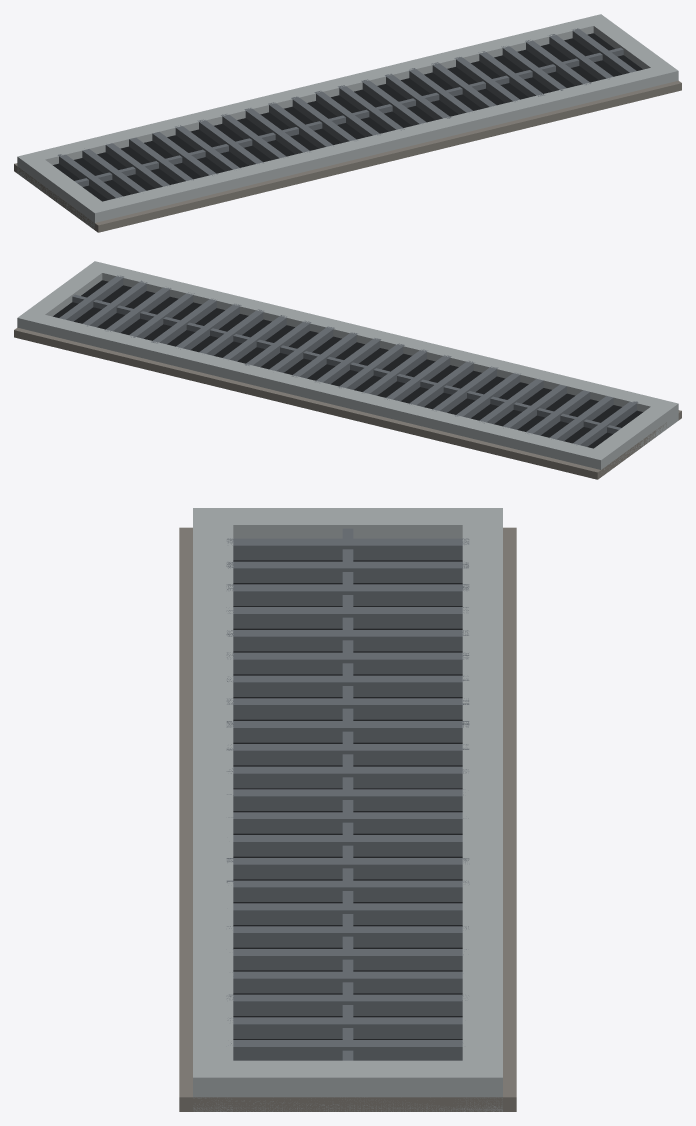
File: SC_Util_Drain_Grate_Linear.gltf
The picture shows the model from 3 angles, top to bottom: view 1: azimuth 30°, elevation 25°; view 2: azimuth 150°, elevation 25°; view 3: azimuth 270°, elevation 25°; orthographic projection. The views are drawn at different scales.
Parts seen in each view (by area): view 1: SC_Util_Drain_Grate_Linear; view 2: SC_Util_Drain_Grate_Linear; view 3: SC_Util_Drain_Grate_Linear.
Boxes of the visible parts, box(x1,y1,x2,y2) form: SC_Util_Drain_Grate_Linear: box(14, 14, 681, 232); SC_Util_Drain_Grate_Linear: box(14, 261, 681, 479); SC_Util_Drain_Grate_Linear: box(179, 508, 516, 1111).
Size of the model in its own units: 1 by 0.028 by 0.25.
1 material, 1 textured.
